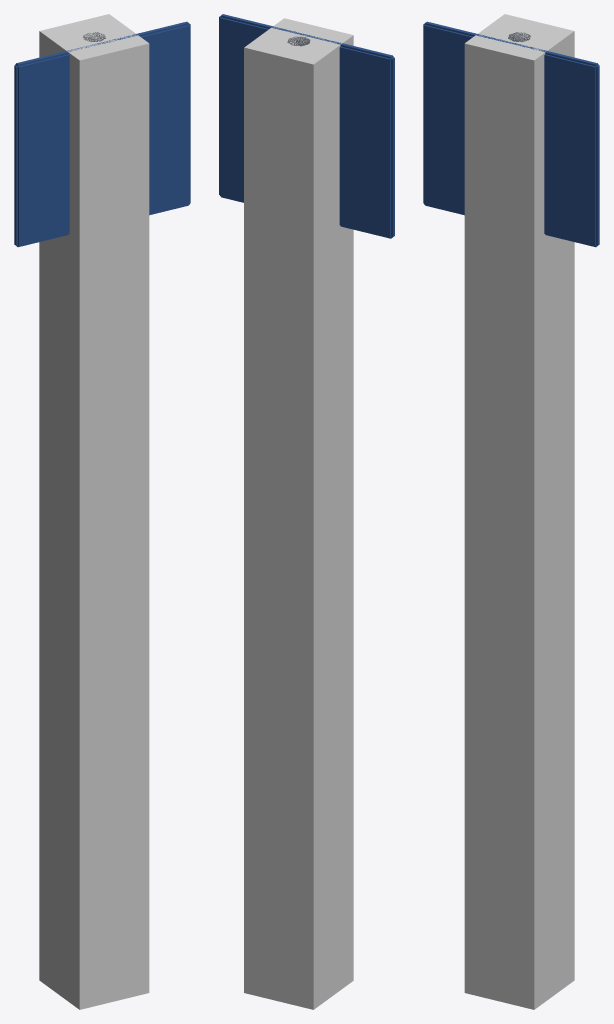
File: sign_crossing.glb
3 views of the same model, side by side, from view 1: azimuth 30°, elevation 25°; view 2: azimuth 150°, elevation 25°; view 3: azimuth 330°, elevation 25° (orthographic).
Parts seen in each view (by area): view 1: sign_crossing-col, sign_crossing_mesh; view 2: sign_crossing-col, sign_crossing_mesh; view 3: sign_crossing-col, sign_crossing_mesh.
Part boxes in pixels (<box>): sign_crossing-col: <box>39,14,149,1009</box>; sign_crossing_mesh: <box>14,21,190,247</box>; sign_crossing-col: <box>244,18,353,1009</box>; sign_crossing_mesh: <box>219,14,394,238</box>; sign_crossing-col: <box>464,14,574,1009</box>; sign_crossing_mesh: <box>423,21,599,247</box>.
Bounding box in the file's own units: 0.5 × 2.6 × 0.2.
